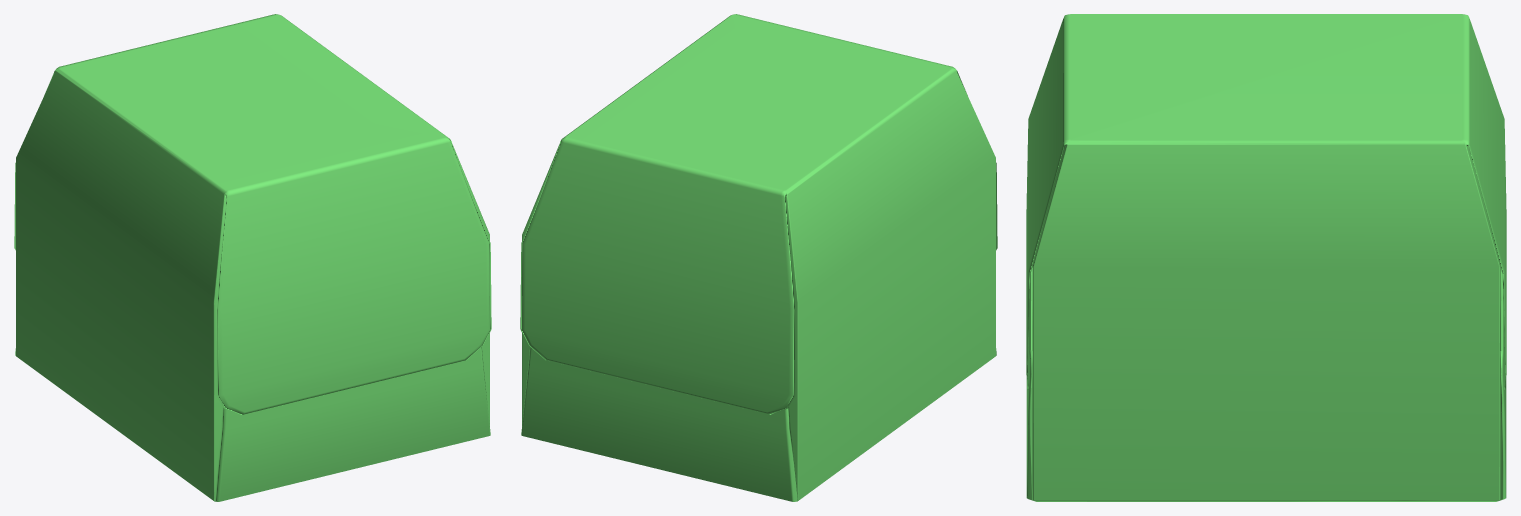
Rendered from alcohol box.fbx.
3 views of the same model, side by side, from view 1: azimuth 30°, elevation 25°; view 2: azimuth 150°, elevation 25°; view 3: azimuth 270°, elevation 25° (orthographic). The views are drawn at different scales.
Visible parts, largest first — view 1: pCube3; view 2: pCube3; view 3: pCube3.
Part boxes in pixels (x1,y1,x2,y2): pCube3: (14, 14, 491, 501); pCube3: (520, 14, 997, 501); pCube3: (1026, 14, 1506, 501).
Size of the model in its own units: 0.3909 by 0.3978 by 0.4992.
